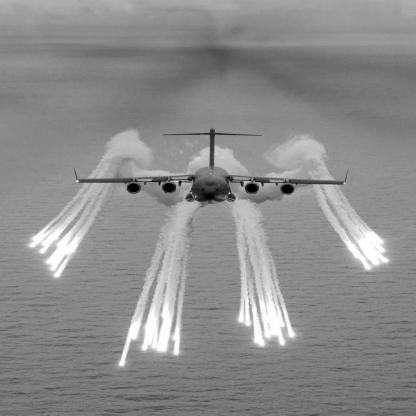C17: (74, 128, 349, 205)
